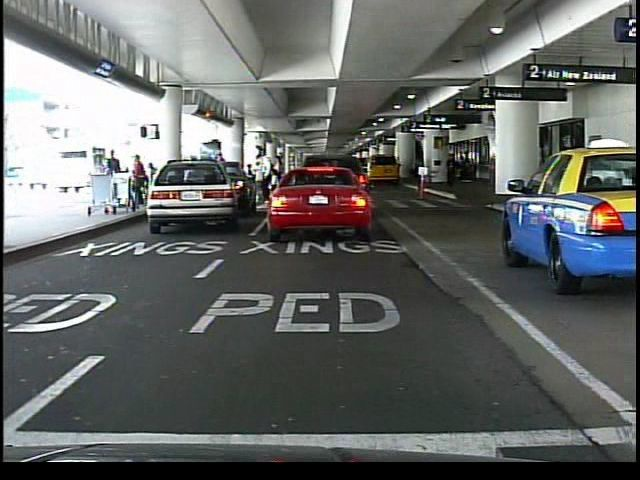person: (251, 159, 274, 205), (330, 152, 347, 206), (105, 148, 121, 204), (214, 149, 231, 201), (259, 148, 275, 203), (445, 152, 458, 189)
